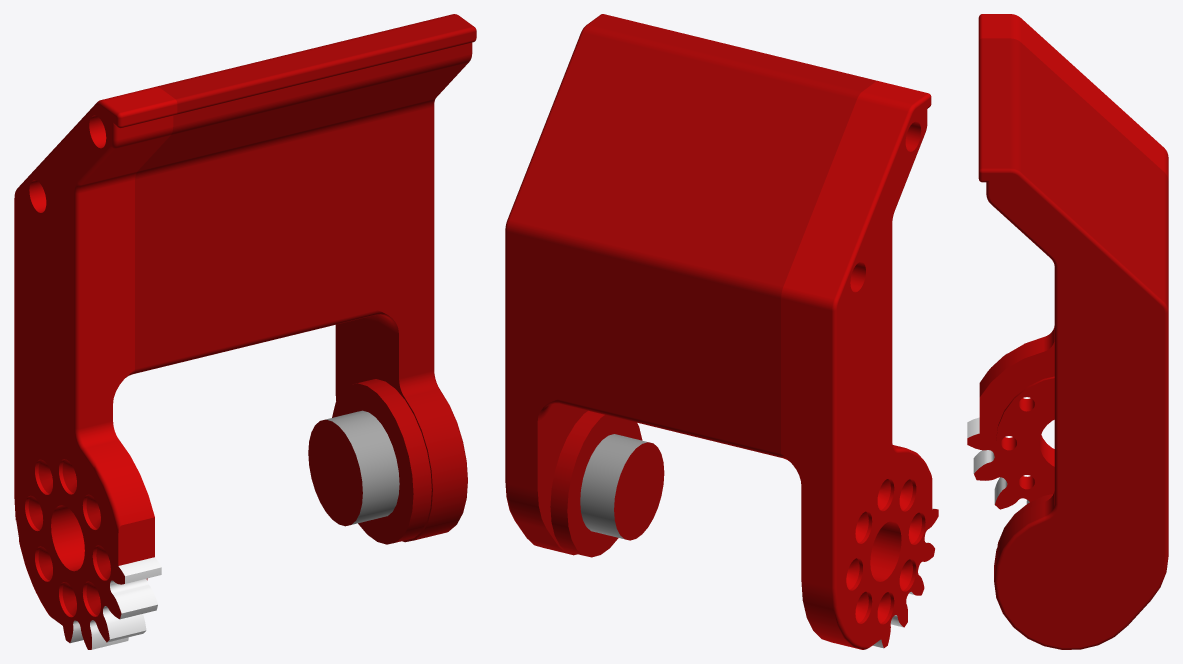
The model's file is Sciurus17_r8_1.gltf.
3 views of the same model, side by side, from view 1: azimuth 30°, elevation 25°; view 2: azimuth 150°, elevation 25°; view 3: azimuth 270°, elevation 25° (orthographic). The views are drawn at different scales.
Parts seen in each view (by area): view 1: CRANE-X7_HandD1 20180505; view 2: CRANE-X7_HandD1 20180505; view 3: CRANE-X7_HandD1 20180505.
Part boxes in pixels (bbox=[...]): CRANE-X7_HandD1 20180505: bbox=[14, 14, 476, 649]; CRANE-X7_HandD1 20180505: bbox=[505, 14, 938, 649]; CRANE-X7_HandD1 20180505: bbox=[967, 14, 1168, 649].
Bounding box in the file's own units: 0.049 × 0.0735 × 0.0265.
